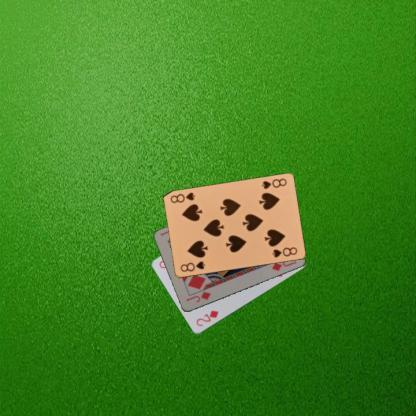2d: (194, 308, 220, 328)
8s: (259, 176, 288, 190), (178, 259, 206, 273)
Jd: (183, 288, 212, 304)
